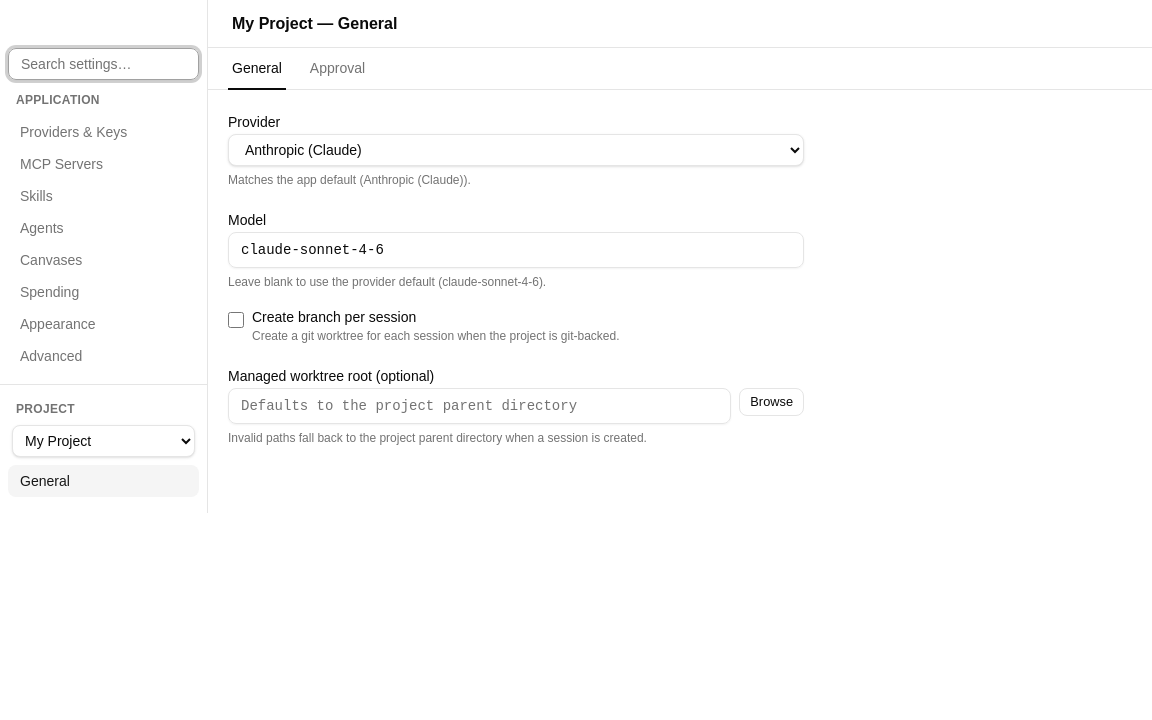
Scenario: SettingsView — Project section › shows per-rule rows on the Approval tab when approval_mode is custom
Expected: the field showing "claude-sonnet-4-6" is shown, left=228, top=232, right=804, bottom=268
Click the button "Approval" at x=337, y=69, box left=306, top=48, right=369, bottom=90
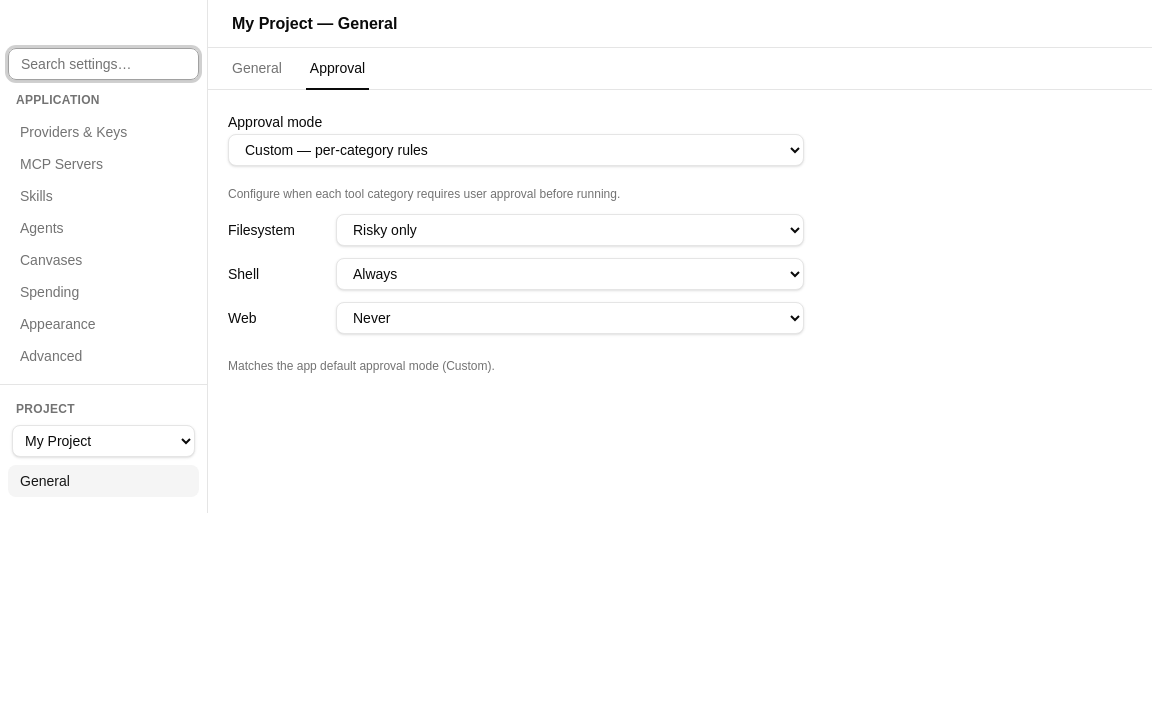
Expected: the text "Filesystem" is shown, left=228, top=222, right=295, bottom=238
Expected: the text "Shell" is shown, left=228, top=266, right=259, bottom=282
Expected: the text "Web" is shown, left=228, top=310, right=256, bottom=326
